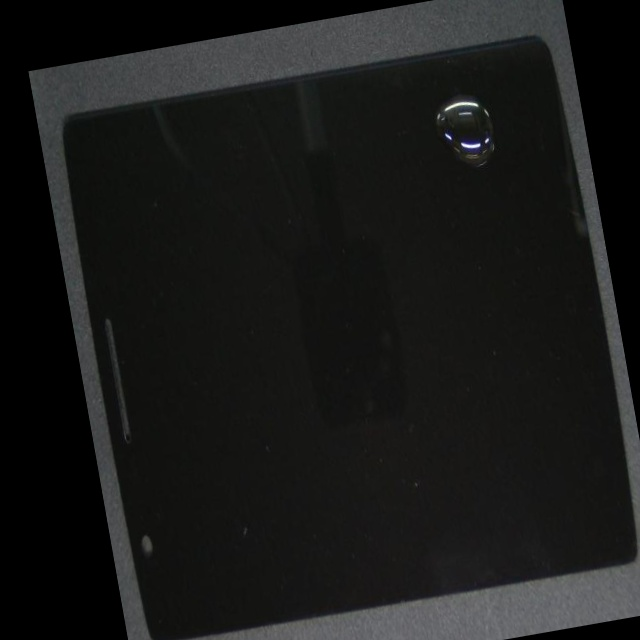oil: (270, 46, 589, 202)
